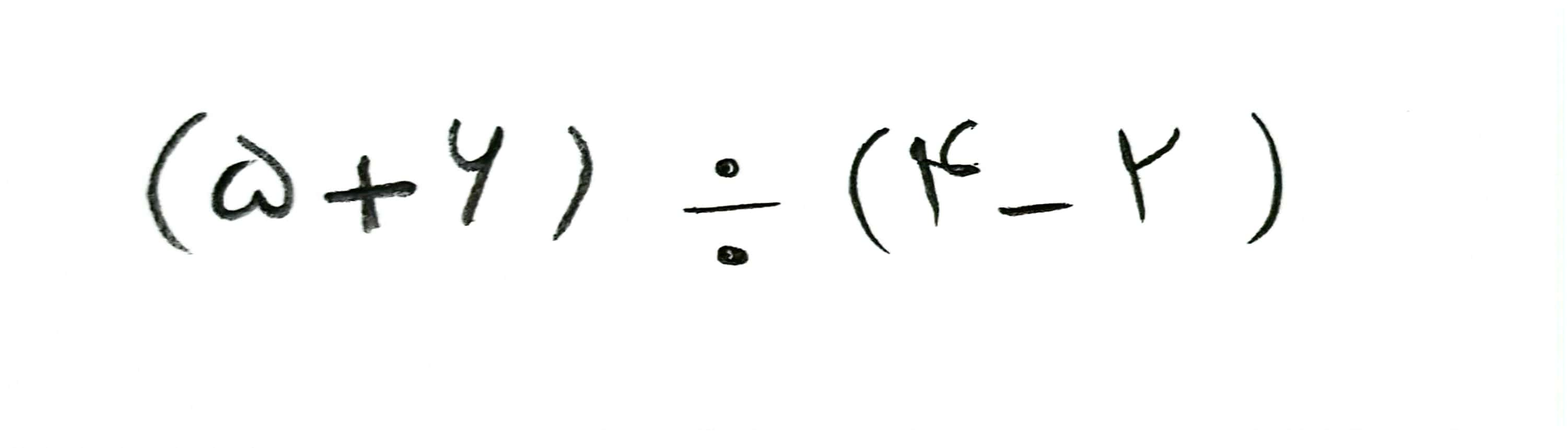character: (683, 157, 784, 266), (146, 110, 208, 254), (907, 117, 983, 228), (323, 152, 419, 234), (209, 134, 296, 223), (447, 117, 507, 228), (1117, 126, 1180, 224), (847, 126, 892, 256), (551, 124, 594, 243), (1247, 110, 1284, 244), (996, 201, 1073, 218)
